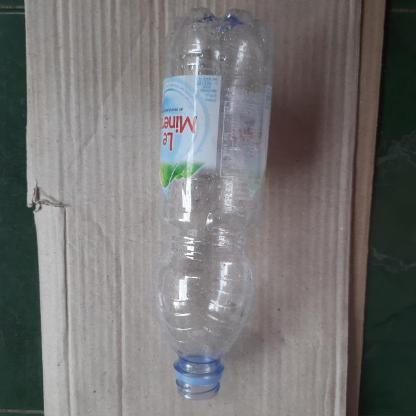Plastic Bottle: (114, 0, 282, 416)
